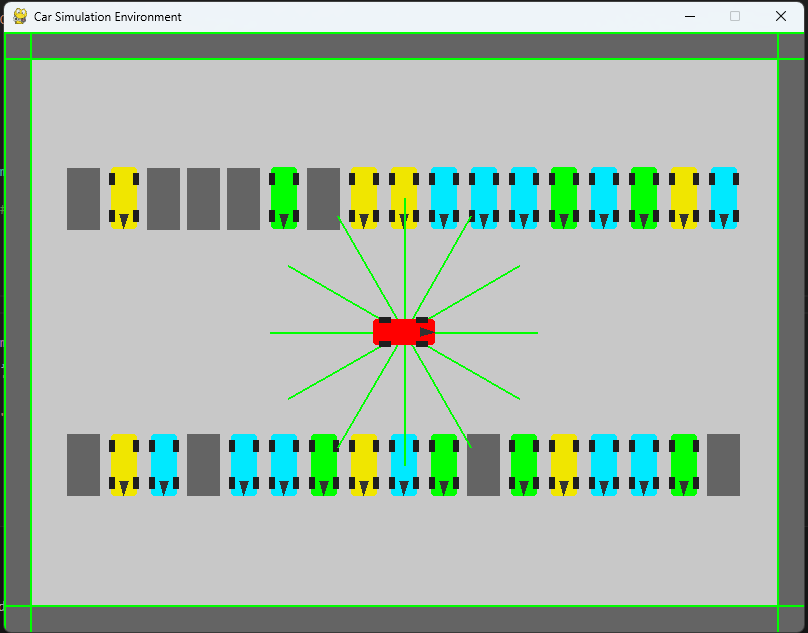ControlledCar: (368, 312, 440, 352)
ParkedCar: (266, 161, 302, 237), (102, 424, 140, 496), (585, 433, 625, 500), (142, 428, 179, 500), (268, 428, 304, 502), (546, 427, 581, 501), (306, 432, 343, 500), (624, 164, 660, 233), (225, 432, 262, 499), (666, 166, 702, 234), (667, 432, 702, 501), (387, 433, 422, 501), (426, 161, 459, 233), (348, 160, 381, 230), (506, 433, 541, 499), (709, 163, 742, 232), (629, 432, 662, 501), (506, 162, 539, 230), (345, 431, 380, 495), (387, 162, 418, 234), (547, 165, 580, 232), (587, 168, 622, 230), (467, 165, 499, 231), (428, 433, 461, 497)
ParkingSpot: (61, 160, 102, 237), (462, 429, 503, 503), (705, 428, 744, 501), (105, 162, 142, 236), (185, 162, 221, 235), (66, 427, 102, 500), (225, 161, 260, 235), (185, 429, 220, 501), (305, 163, 342, 231), (147, 162, 179, 237)
